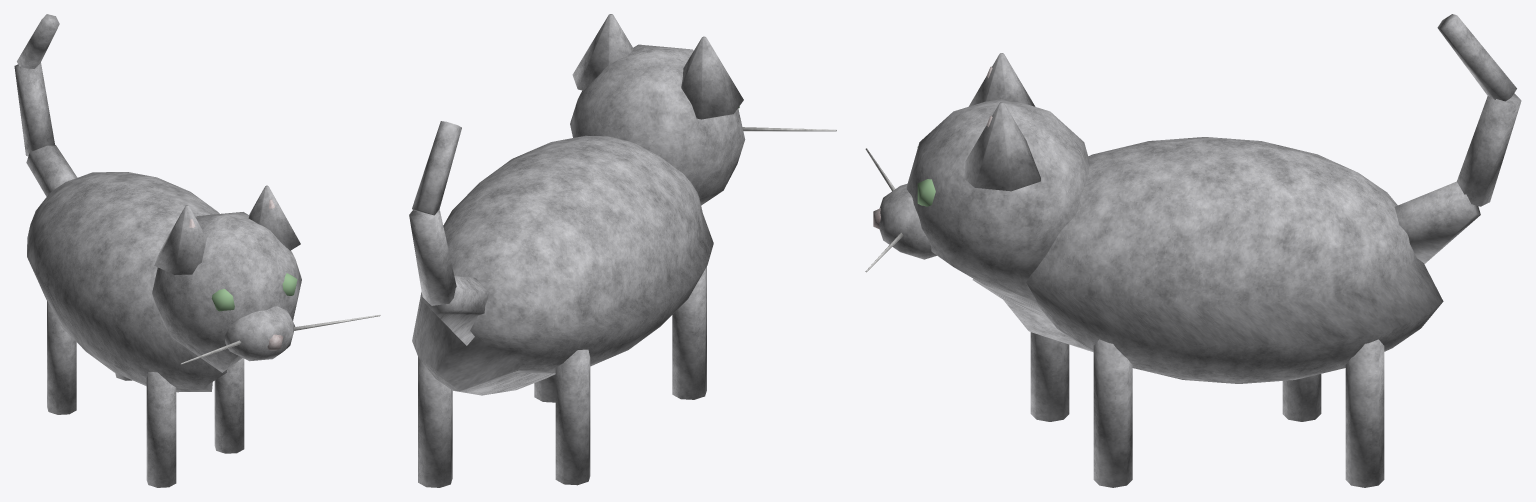
File: mob_kucing_walk4.obj
3 renders of one model, left to right at view 1: azimuth 30°, elevation 25°; view 2: azimuth 150°, elevation 25°; view 3: azimuth 270°, elevation 25°, orthographic. The views are drawn at different scales.
Parts seen in each view (by area): view 1: mob_kucing; view 2: mob_kucing; view 3: mob_kucing.
Part boxes in pixels (x1=…): mob_kucing: x1=14, y1=14, x2=380, y2=487; mob_kucing: x1=409, y1=14, x2=836, y2=487; mob_kucing: x1=865, y1=14, x2=1521, y2=487.
Bounding box in the file's own units: 0.3741 × 0.618 × 0.8432.
1 material, 1 textured.
